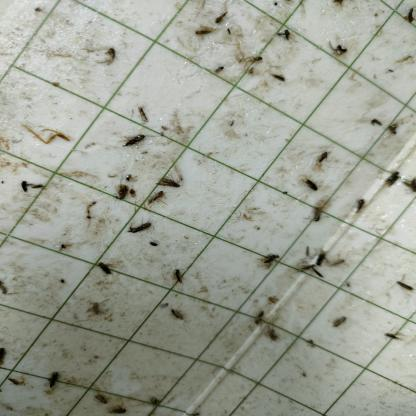prays_oleae: (118, 124, 144, 158), (156, 172, 186, 201), (328, 38, 351, 67), (168, 298, 184, 336), (127, 218, 156, 238), (259, 245, 277, 274), (97, 257, 114, 287), (304, 170, 321, 199), (44, 366, 62, 392), (395, 268, 413, 294), (384, 168, 400, 195), (279, 22, 295, 48), (266, 324, 284, 344), (386, 318, 401, 342), (364, 112, 380, 134), (352, 192, 364, 221), (312, 200, 322, 234), (146, 388, 160, 412), (402, 170, 416, 194), (256, 300, 266, 332), (0, 267, 10, 299), (386, 118, 398, 144), (173, 262, 184, 290), (107, 398, 127, 413), (150, 184, 162, 208), (92, 390, 108, 408), (194, 24, 212, 40), (316, 246, 326, 274), (333, 310, 346, 330), (266, 288, 277, 310), (318, 150, 328, 174), (272, 67, 286, 84), (216, 6, 228, 25), (209, 62, 226, 74), (92, 302, 100, 320)
